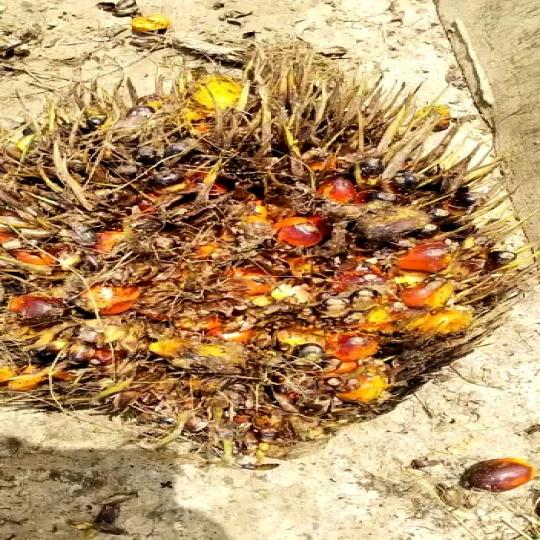terlalu masak: (0, 43, 540, 473)
